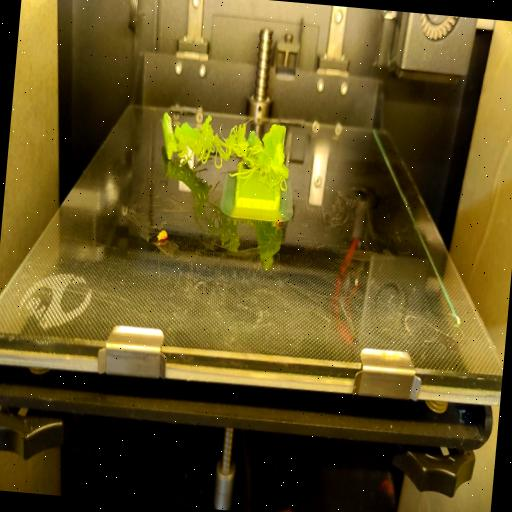spaghetti: (174, 108, 298, 181)
